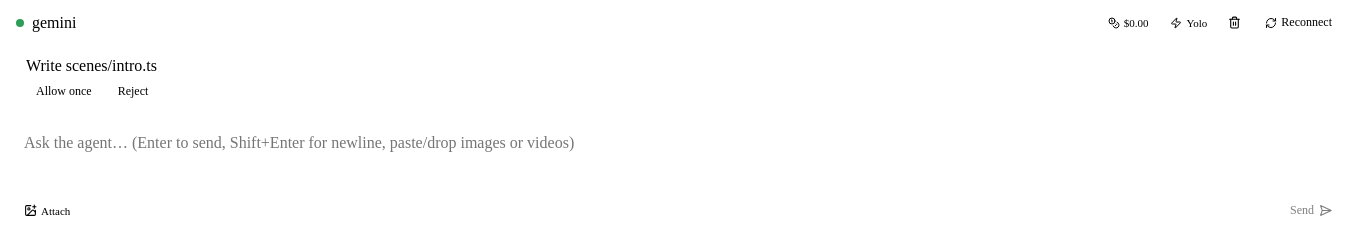
ChatPane › answers a permission card and disables it
The image size is (1349, 233).
Click the button "Allow once" at (64, 92), box [26, 81, 102, 102]
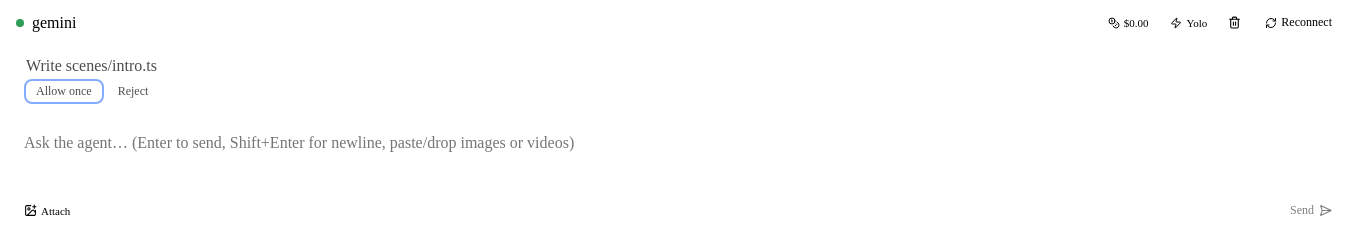
Expected: the button "Allow once" is disabled, [26, 81, 102, 102]
